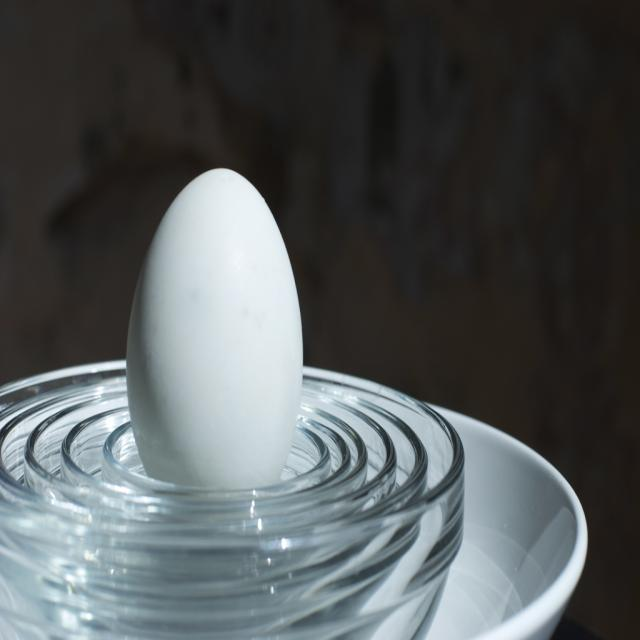Egg: (126, 165, 304, 489)
